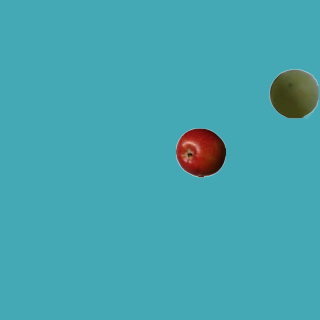Apple Braeburn: (175, 127, 225, 177)
Grape White 4: (268, 68, 318, 118)
